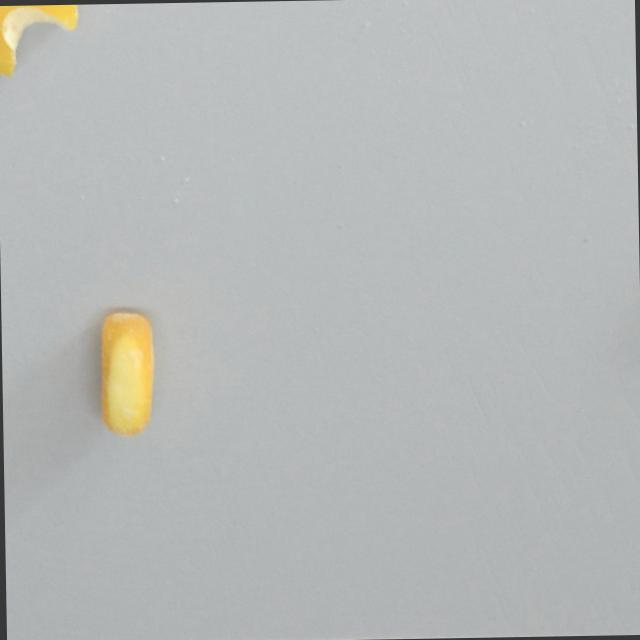no_canjicado: (0, 4, 85, 84)
pelicula: (94, 308, 159, 438)
